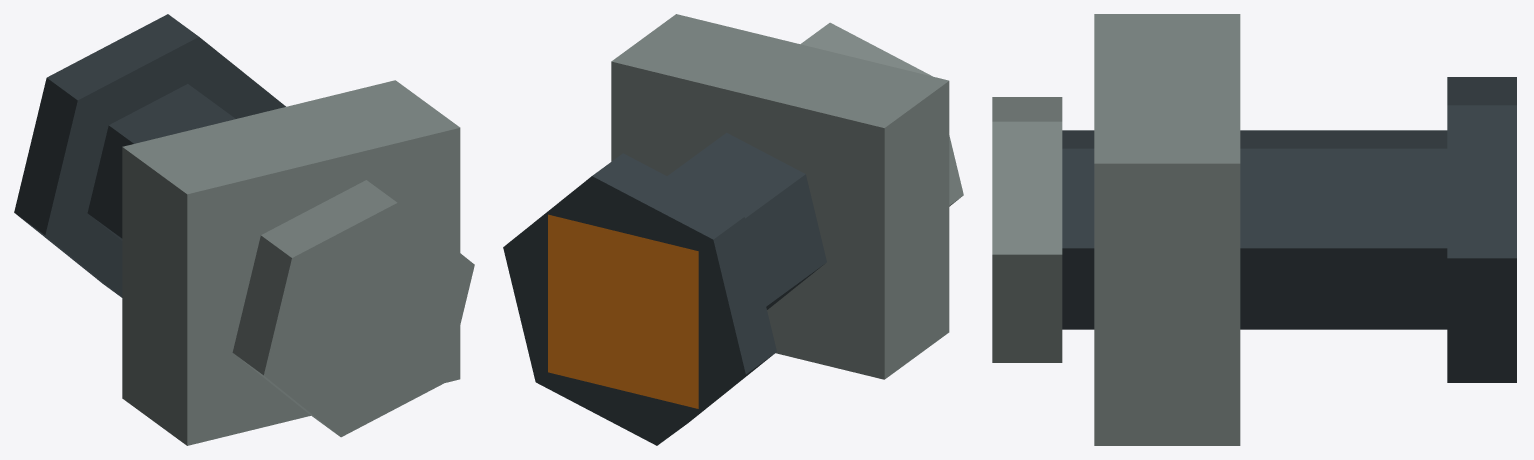
The picture shows the model from 3 angles, left to right: view 1: azimuth 30°, elevation 25°; view 2: azimuth 150°, elevation 25°; view 3: azimuth 270°, elevation 25°; orthographic projection. The views are drawn at different scales.
Parts seen in each view (by area): view 1: mount; view 2: mount; view 3: mount.
Part boxes in pixels (bbox=[...]): mount: bbox=[14, 14, 474, 445]; mount: bbox=[503, 14, 963, 445]; mount: bbox=[992, 14, 1516, 445].
Bounding box in the file's own units: 4.25 × 3.78 × 6.33.
